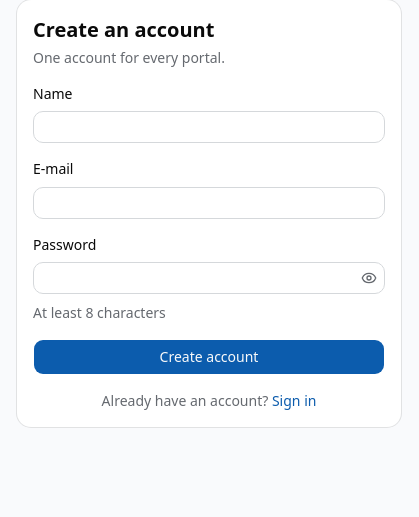
Test: RegisterPage › offers sign-in when the account was created but signing in failed
Type "Ana Client" into the field labelled "Name" at (209, 127), box [33,111,385,143]
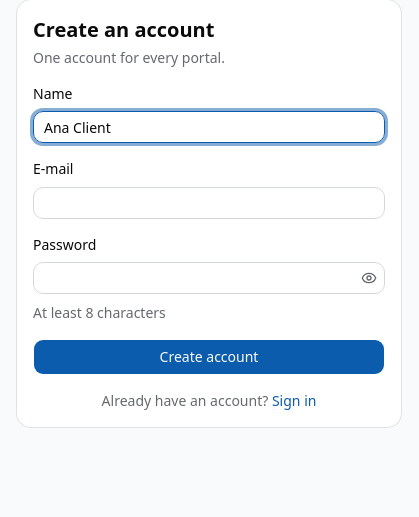
Type "ana@example.com" into the field labelled "E-mail" at (209, 202), box [33,186,385,218]
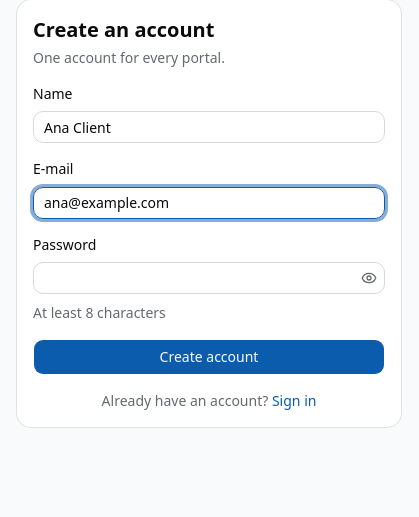
Type "correct-horse" into the password field labelled "Password" at (195, 278), box [34,262,357,294]
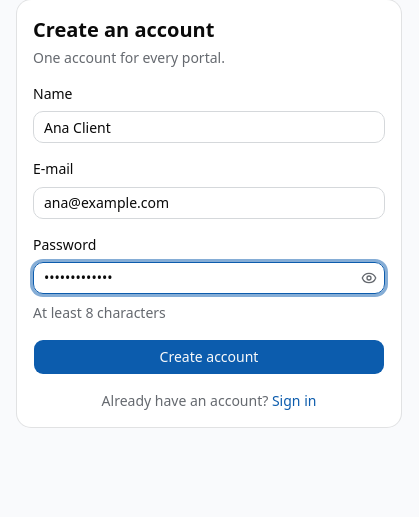
Click the button "Create account" at (209, 357), box [33,339,385,375]
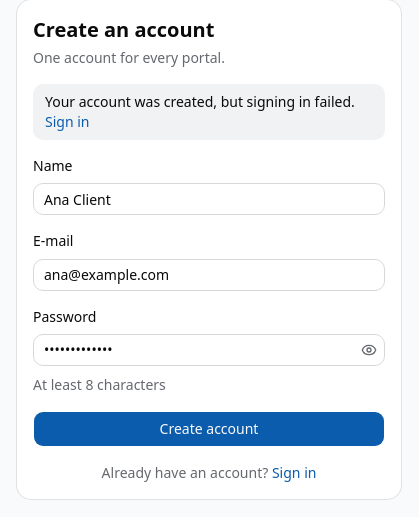
Result: the message shows "Your account was created, but signing in failed." at [45,92,355,111]
